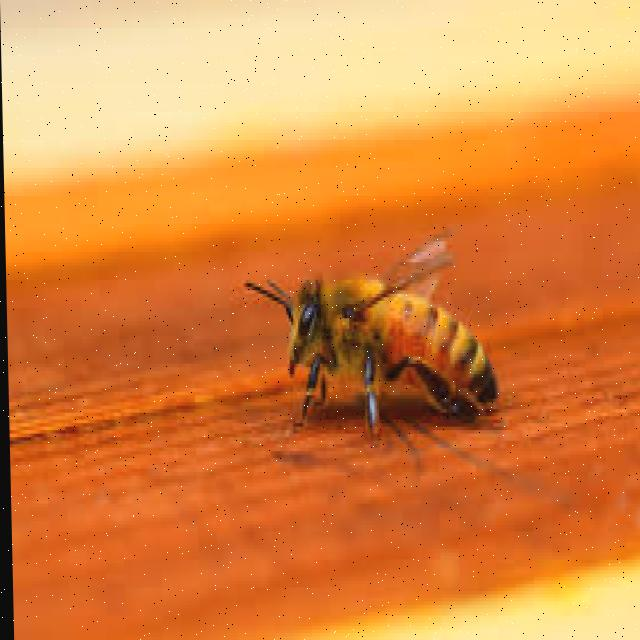Apis-mellifera-scutellata: (238, 224, 524, 478)
